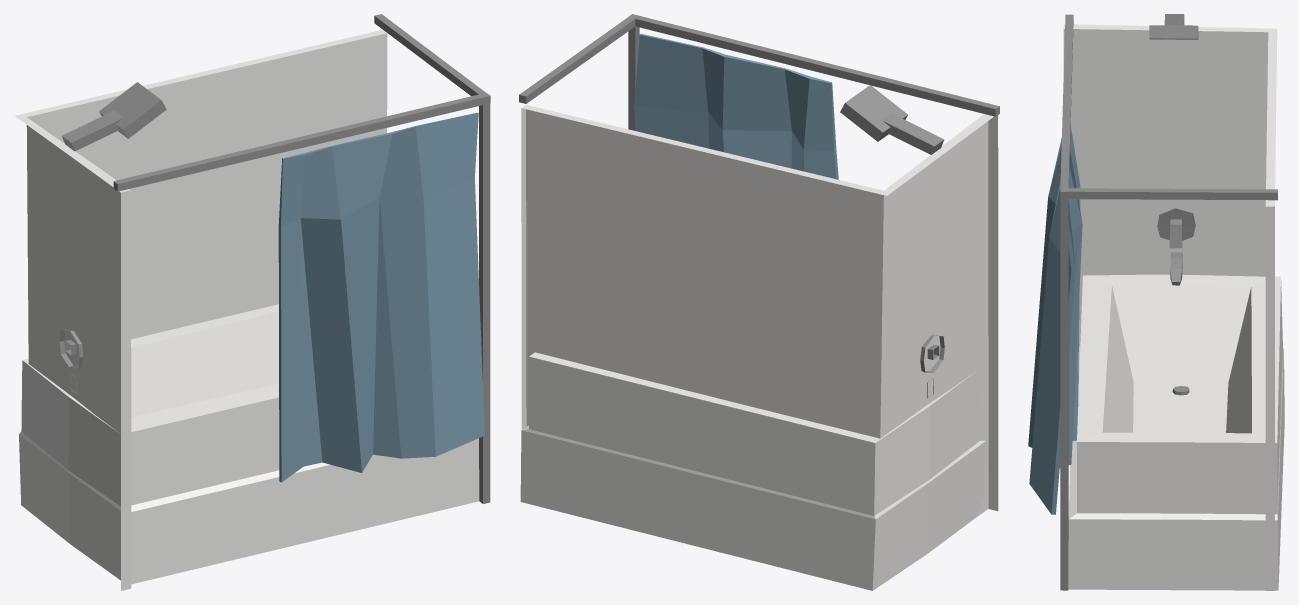
The model's file is Bath_3.fbx.
3 renders of one model, left to right at view 1: azimuth 30°, elevation 25°; view 2: azimuth 150°, elevation 25°; view 3: azimuth 270°, elevation 25°, orthographic.
Parts seen in each view (by area): view 1: Bath_3; view 2: Bath_3; view 3: Bath_3.
Boxes of the visible parts, left/top/right/bottom form: Bath_3: left=14, top=14, right=490, bottom=590; Bath_3: left=519, top=14, right=999, bottom=590; Bath_3: left=1028, top=14, right=1284, bottom=590.
Bounding box in the file's own units: 339 × 206 × 381.
